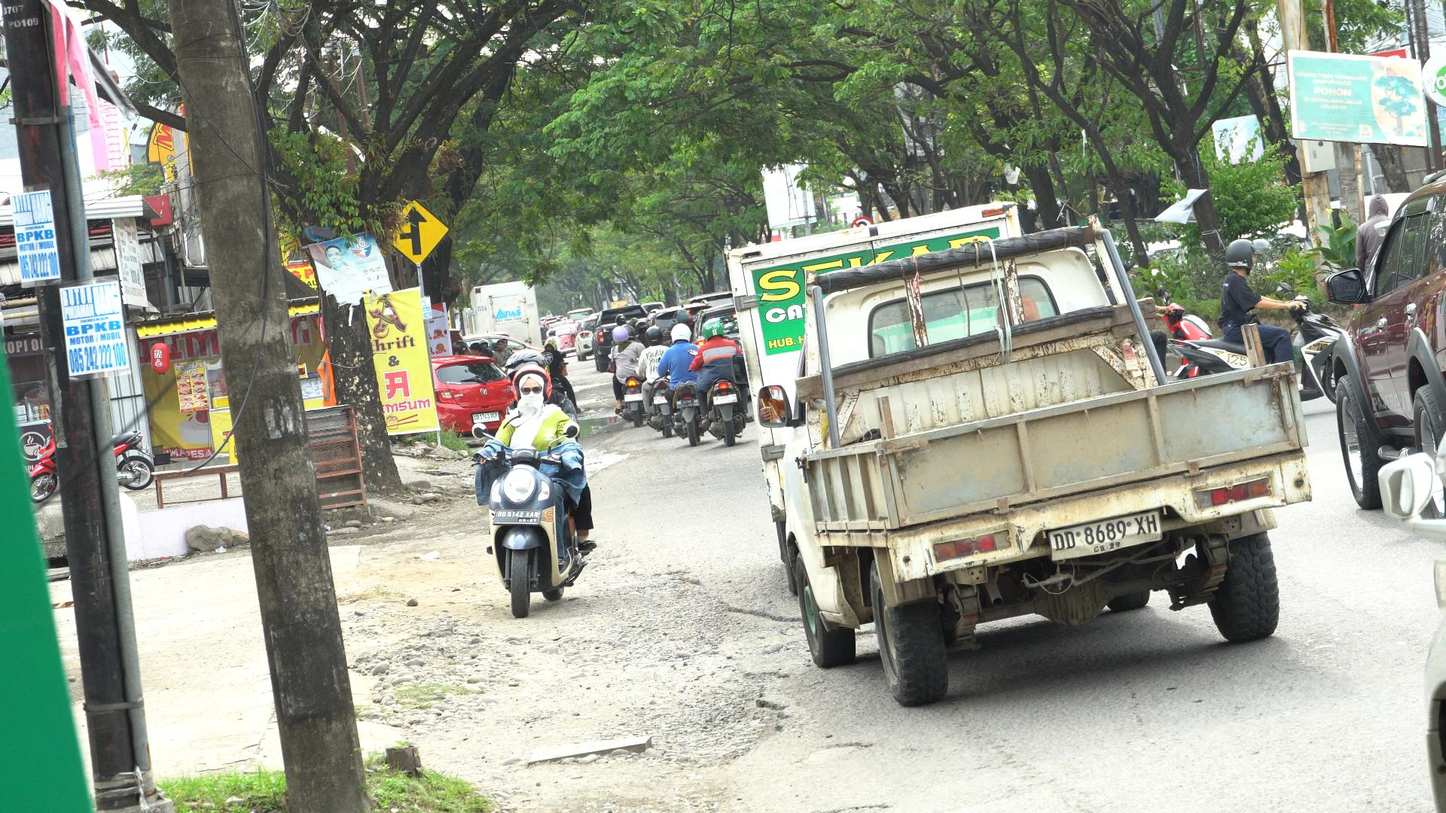number-plate: (491, 506, 543, 525)
